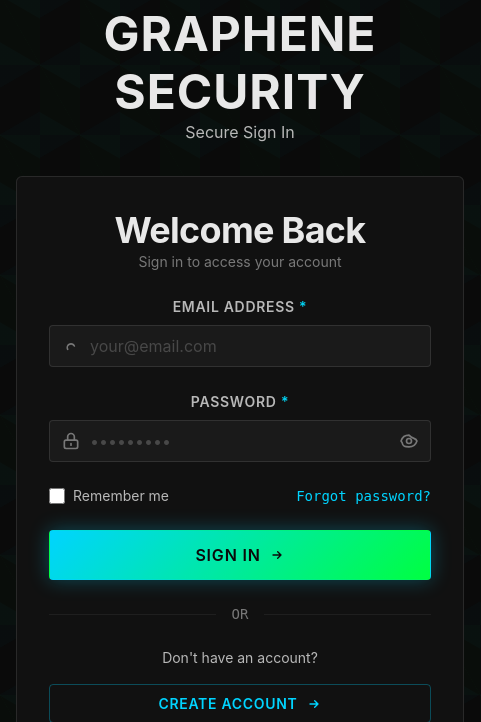
Scenario: Login Flow Integration Tests - Simple › should handle login errors
Expected: the heading "Welcome Back" is shown, x1=114 y1=208 x2=366 y2=252
# Fill out the form
Type "wrong@example.com" into the field labelled "Email Address *" at (240, 346), box x1=49 y1=325 x2=431 y2=367
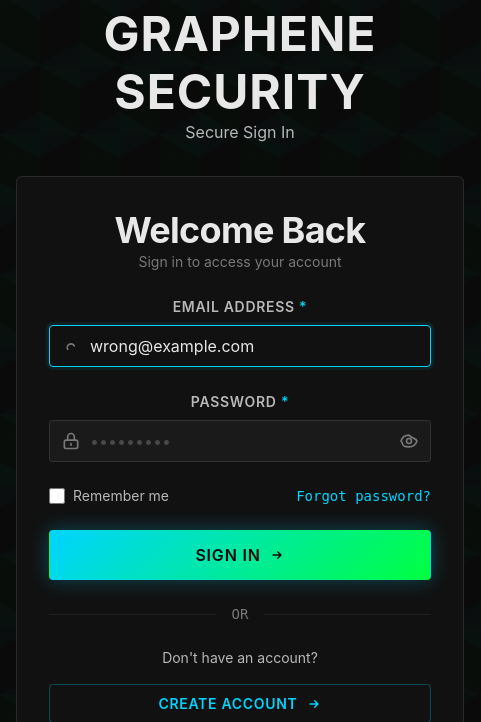
Type "wrongpassword" into the password field labelled "Password *" at (240, 441), box x1=49 y1=420 x2=431 y2=462
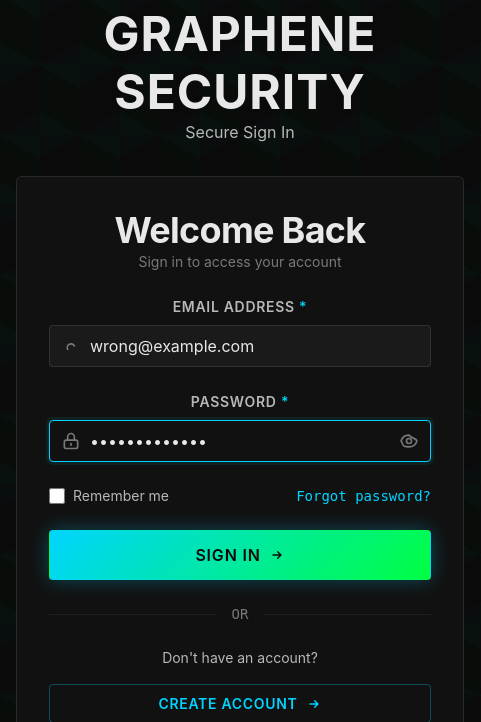
# Submit the form
Click the button "Sign In" at (240, 555), box x1=49 y1=530 x2=431 y2=580
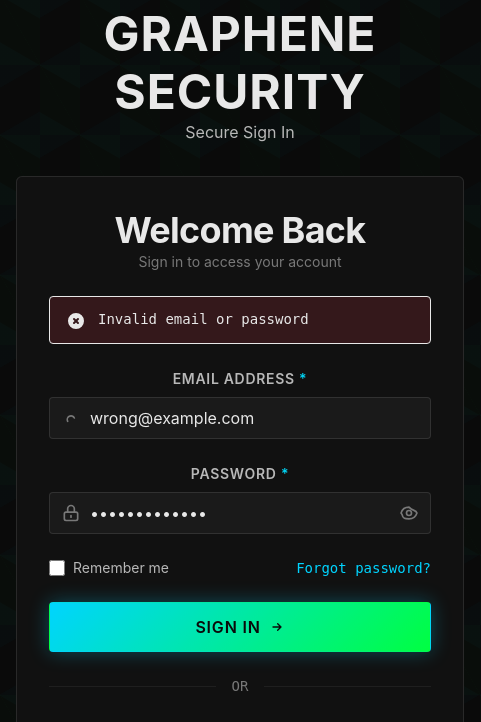
Expected: the heading "Welcome Back" is shown, x1=114 y1=208 x2=366 y2=252
Result: the text "Invalid email or password" is shown at x1=98 y1=309 x2=309 y2=329
